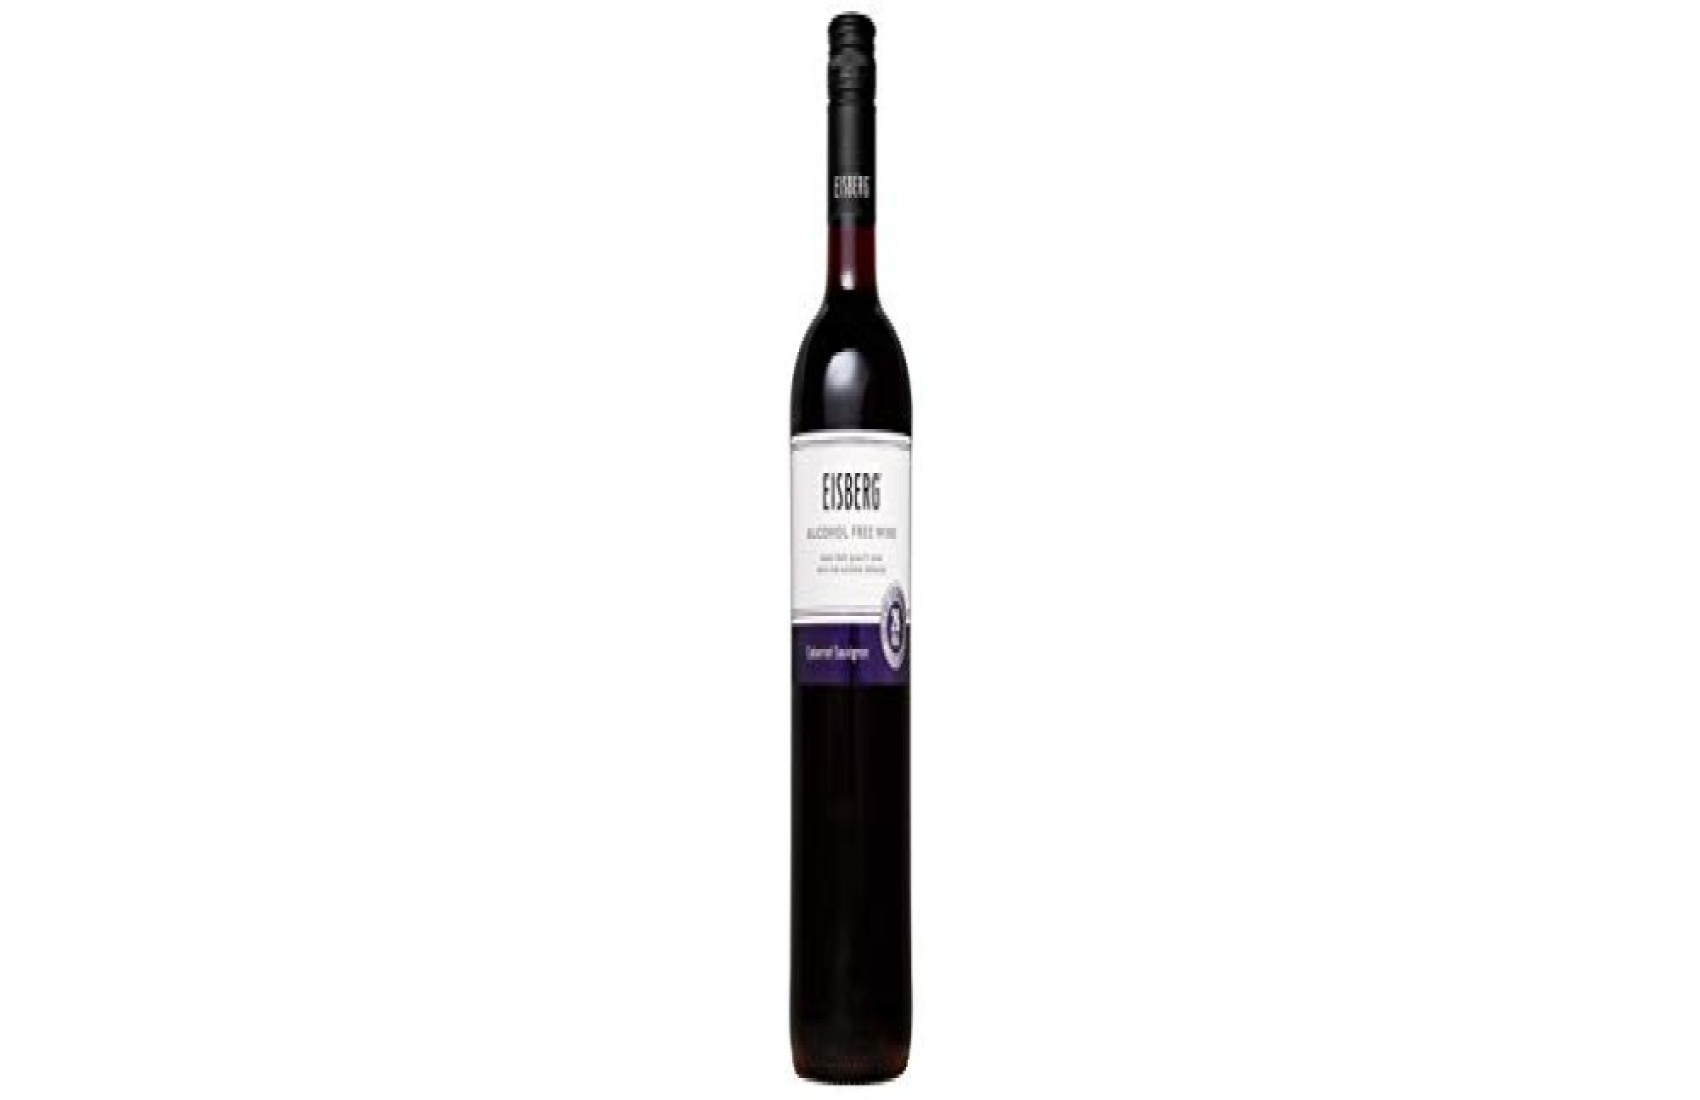wine: (795, 12, 922, 1088)
